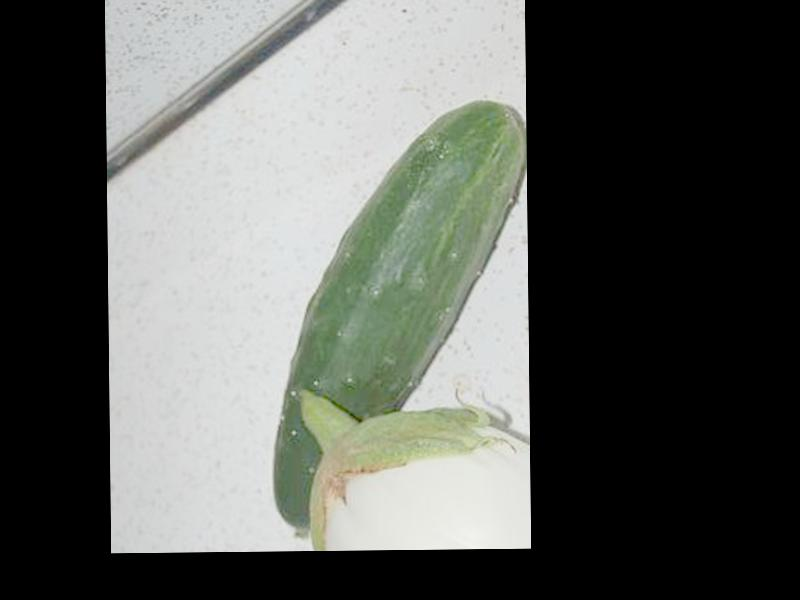Cucumber: (270, 100, 531, 539)
